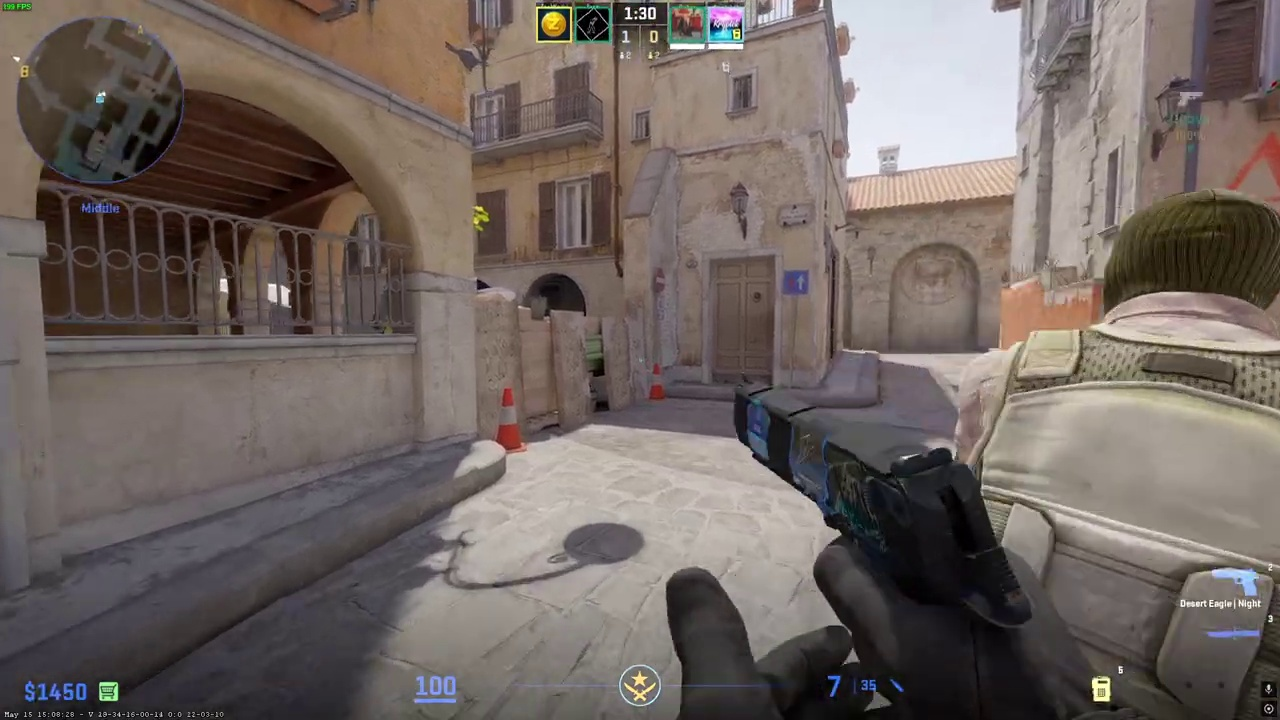Terrorist: (954, 188, 1280, 720)
